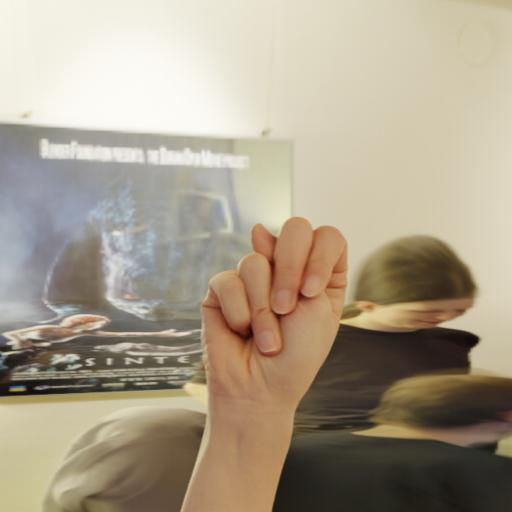N: (201, 214, 361, 428)
